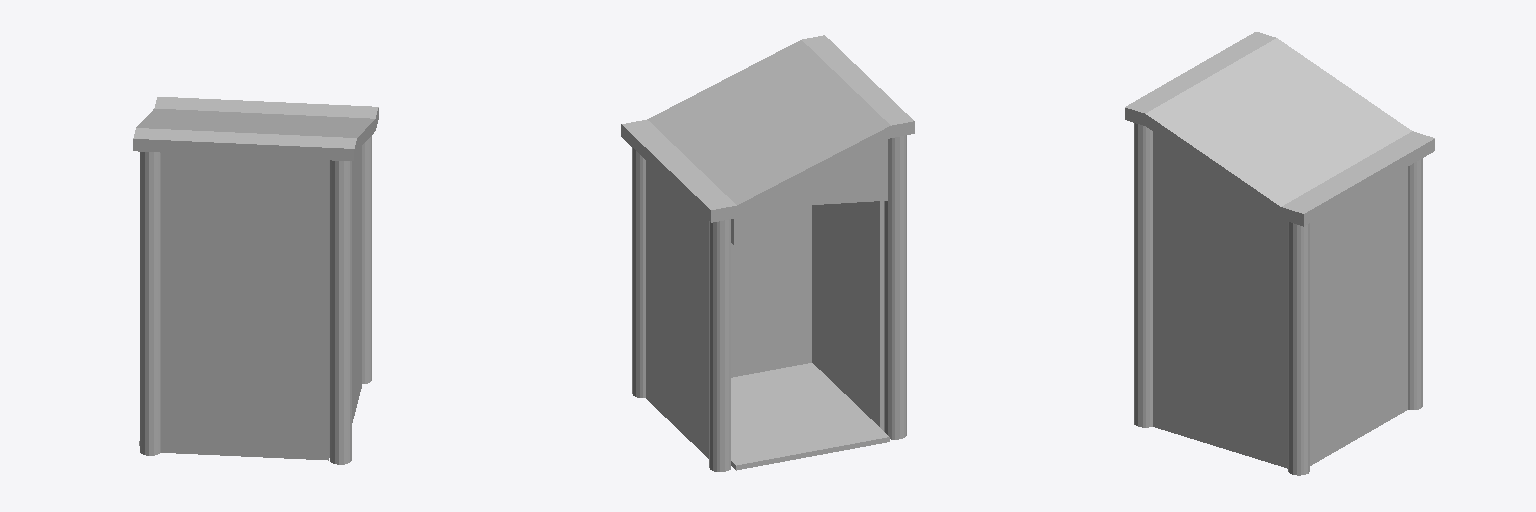
The model's file is Bano.obj.
The picture shows the model from 3 angles: view 1: azimuth 30°, elevation 25°; view 2: azimuth 150°, elevation 25°; view 3: azimuth 270°, elevation 25°; orthographic projection.
Parts seen in each view (by area): view 1: Bano_Baño_Cube.001; view 2: Bano_Baño_Cube.001; view 3: Bano_Baño_Cube.001.
Part boxes in pixels (bbox=[...]): Bano_Baño_Cube.001: bbox=[133, 97, 378, 464]; Bano_Baño_Cube.001: bbox=[621, 35, 914, 471]; Bano_Baño_Cube.001: bbox=[1125, 32, 1434, 475].
Size of the model in its own units: 4.73 by 5.33 by 4.73.